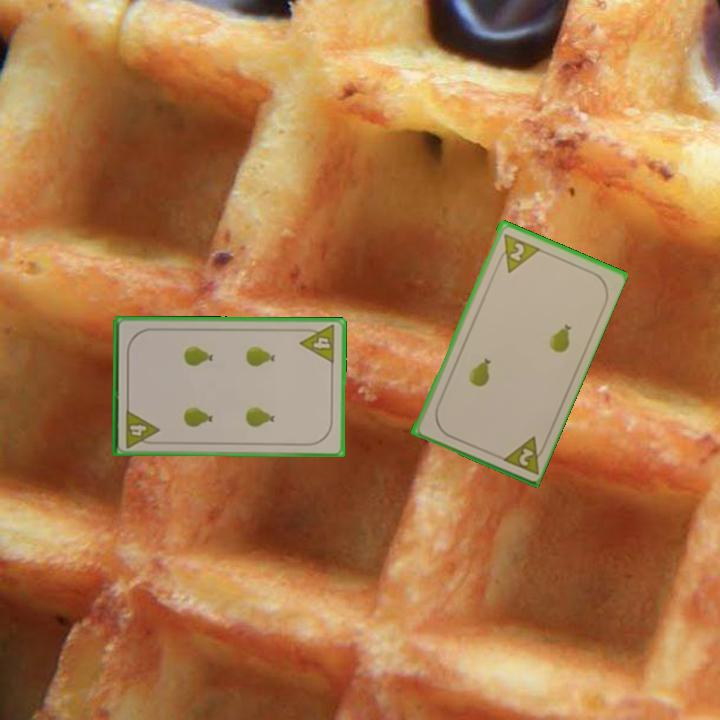2p: (493, 230, 541, 275), (515, 444, 536, 469)
4p: (297, 322, 338, 366), (122, 406, 161, 450)
